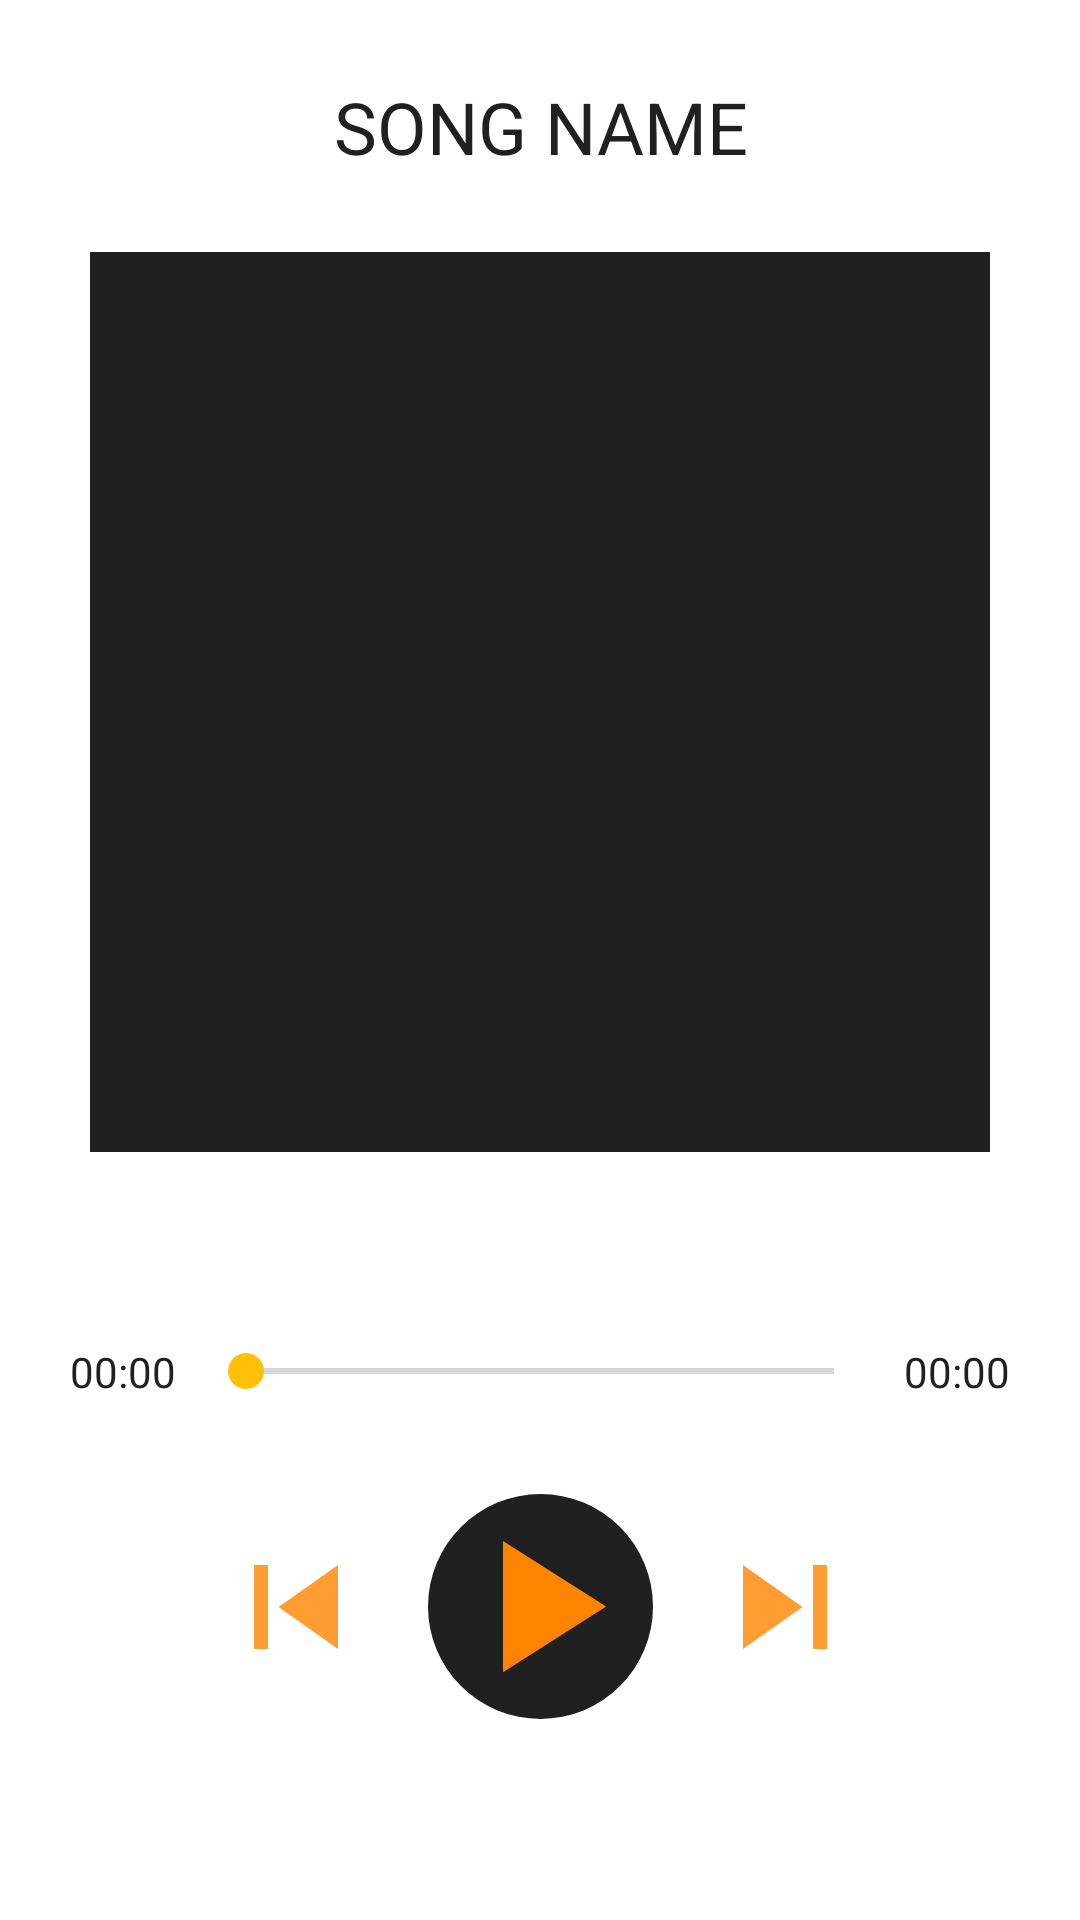

Icons on this 1080×1920 Android screen, each with its box as region(x1, y1, x2, y2):
play: region(428, 1494, 653, 1719)
skip: region(743, 1565, 827, 1649)
skip previous: region(254, 1565, 338, 1649)
